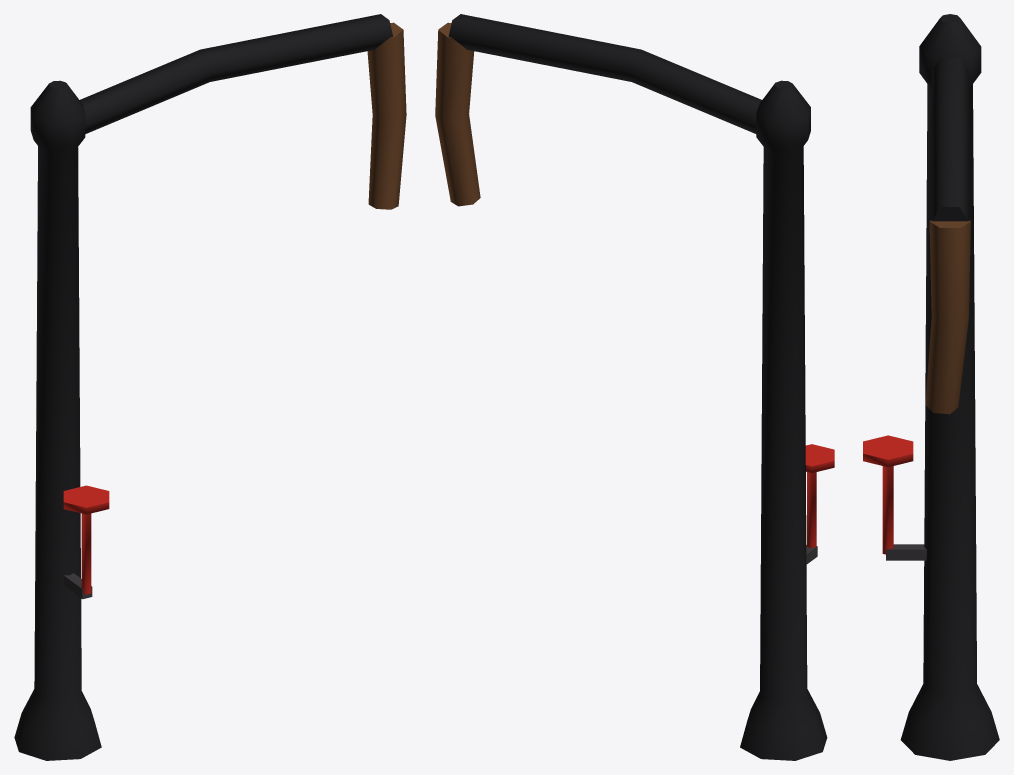
Rendered from water_column.glb.
3 renders of one model, left to right at view 1: azimuth 30°, elevation 25°; view 2: azimuth 150°, elevation 25°; view 3: azimuth 270°, elevation 25°, orthographic. The views are drawn at different scales.
Visible parts, largest first — view 1: Body; view 2: Body; view 3: Body.
Part boxes in pixels (left/top/right/bottom): Body: left=14, top=14, right=406, bottom=760; Body: left=435, top=14, right=834, bottom=760; Body: left=863, top=14, right=999, bottom=760.
Size of the model in its own units: 2.35 by 3.85 by 0.6612.
